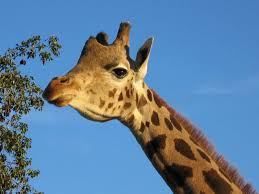Jirafa: (36, 12, 215, 178)
